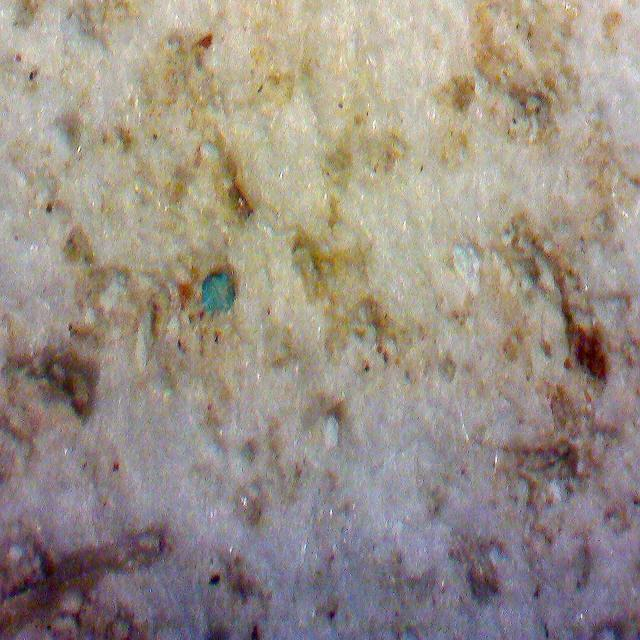microplastic: (200, 270, 236, 316)
